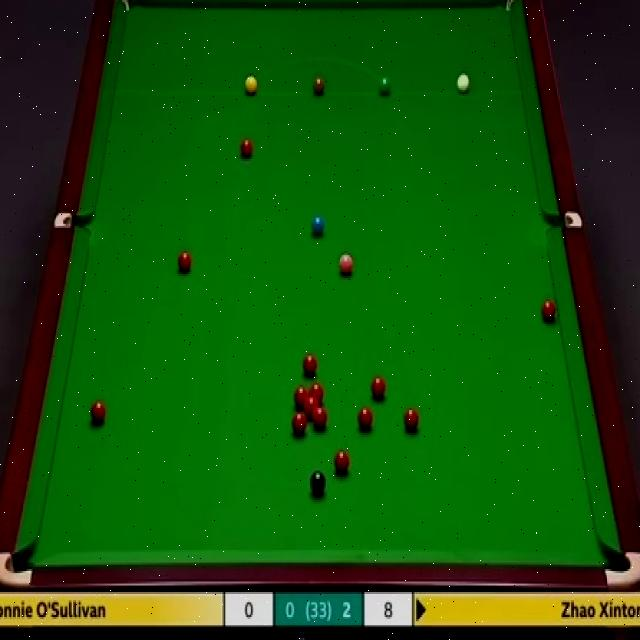black-ball: (309, 469, 325, 496)
blue-ball: (311, 213, 325, 240)
brown-ball: (312, 75, 325, 95)
green-ball: (378, 76, 392, 95)
pink-ball: (337, 252, 354, 276)
red-ball: (401, 406, 421, 435), (356, 405, 374, 436), (369, 372, 386, 403), (335, 447, 350, 477), (90, 399, 106, 426), (541, 298, 556, 326), (308, 382, 325, 406), (302, 354, 318, 378), (294, 385, 309, 410), (178, 249, 192, 275), (312, 406, 327, 430), (292, 412, 306, 437), (239, 138, 254, 161), (305, 398, 320, 418)
white-ball: (457, 70, 472, 94)
yellow-ball: (244, 75, 258, 95)
